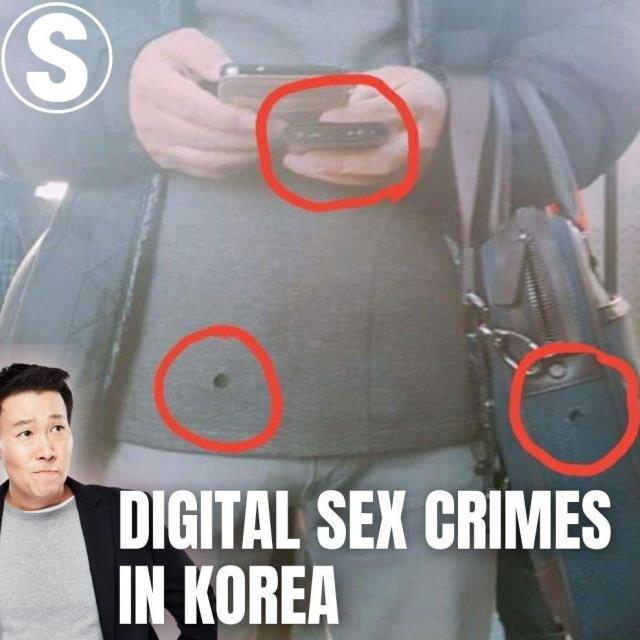hidden camera: (209, 368, 233, 394), (564, 404, 586, 425), (366, 128, 381, 139)
